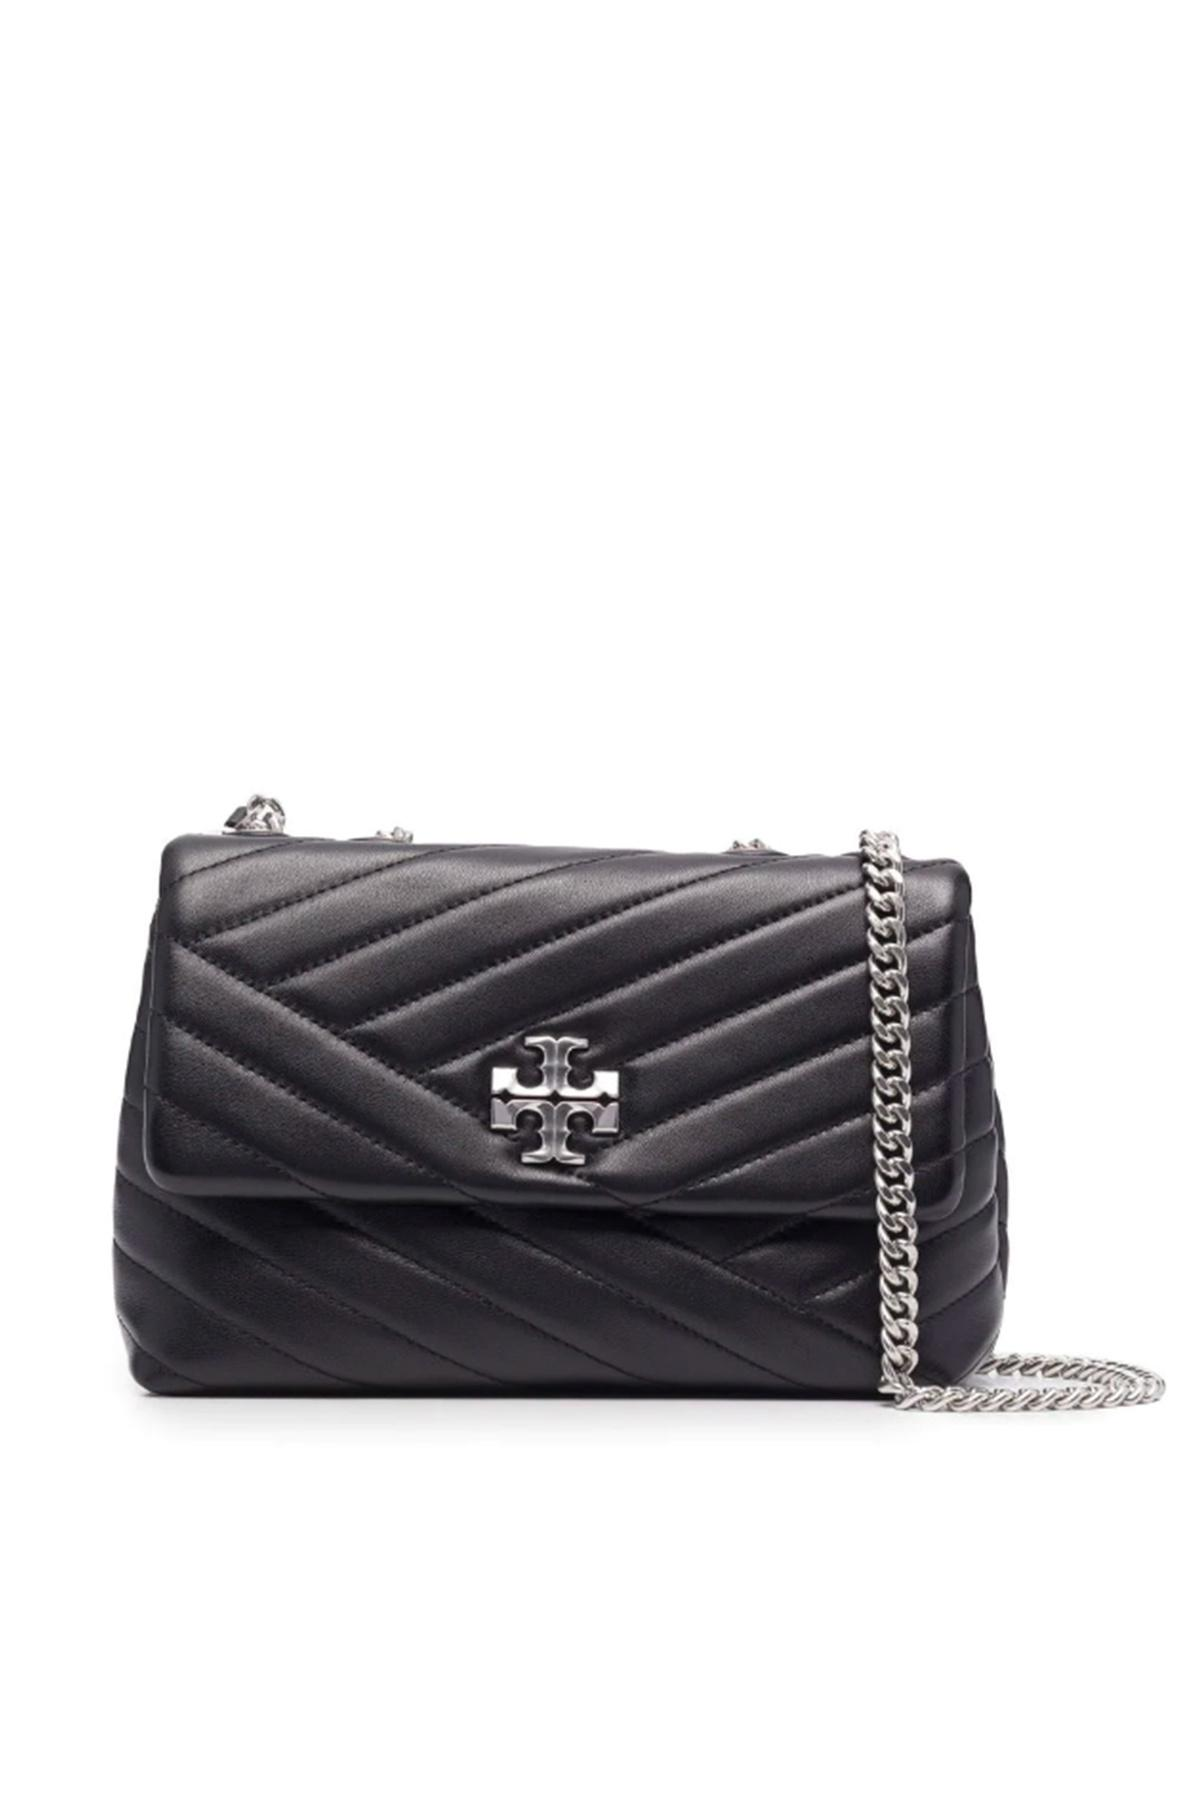TORY-BURCH: (492, 1035, 619, 1164)
